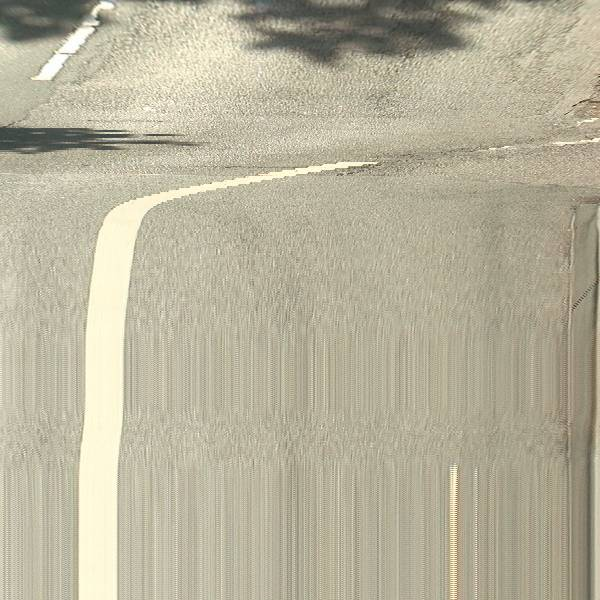road_damage: (560, 92, 600, 123)
